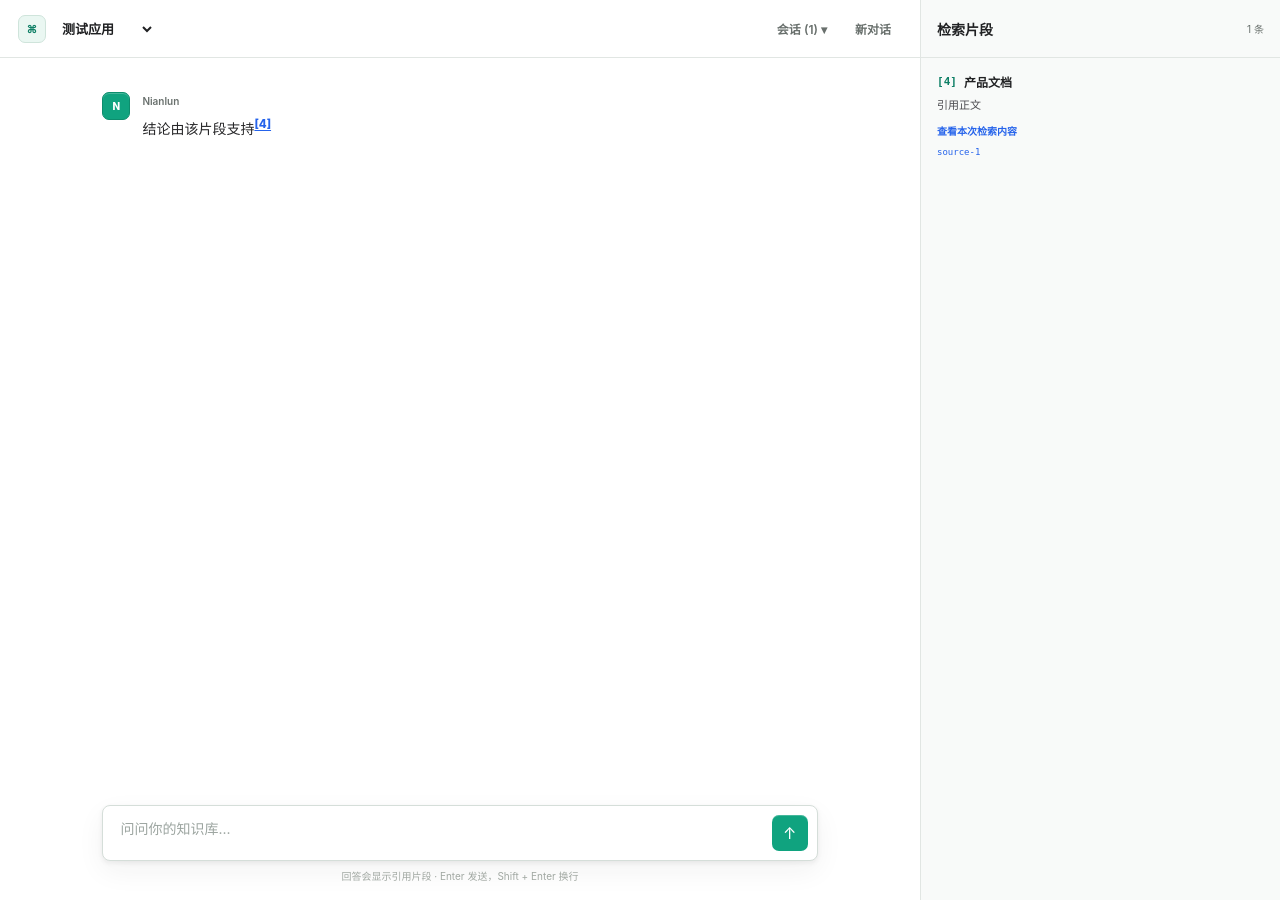
Scenario: ChatView retrieval snippets › links answer citations to the matching expanded source
What coordinates should you click on to do the following:
click the link with class "citation-link"
I would click on:
 (263, 124)
Its box is [254, 117, 271, 131].
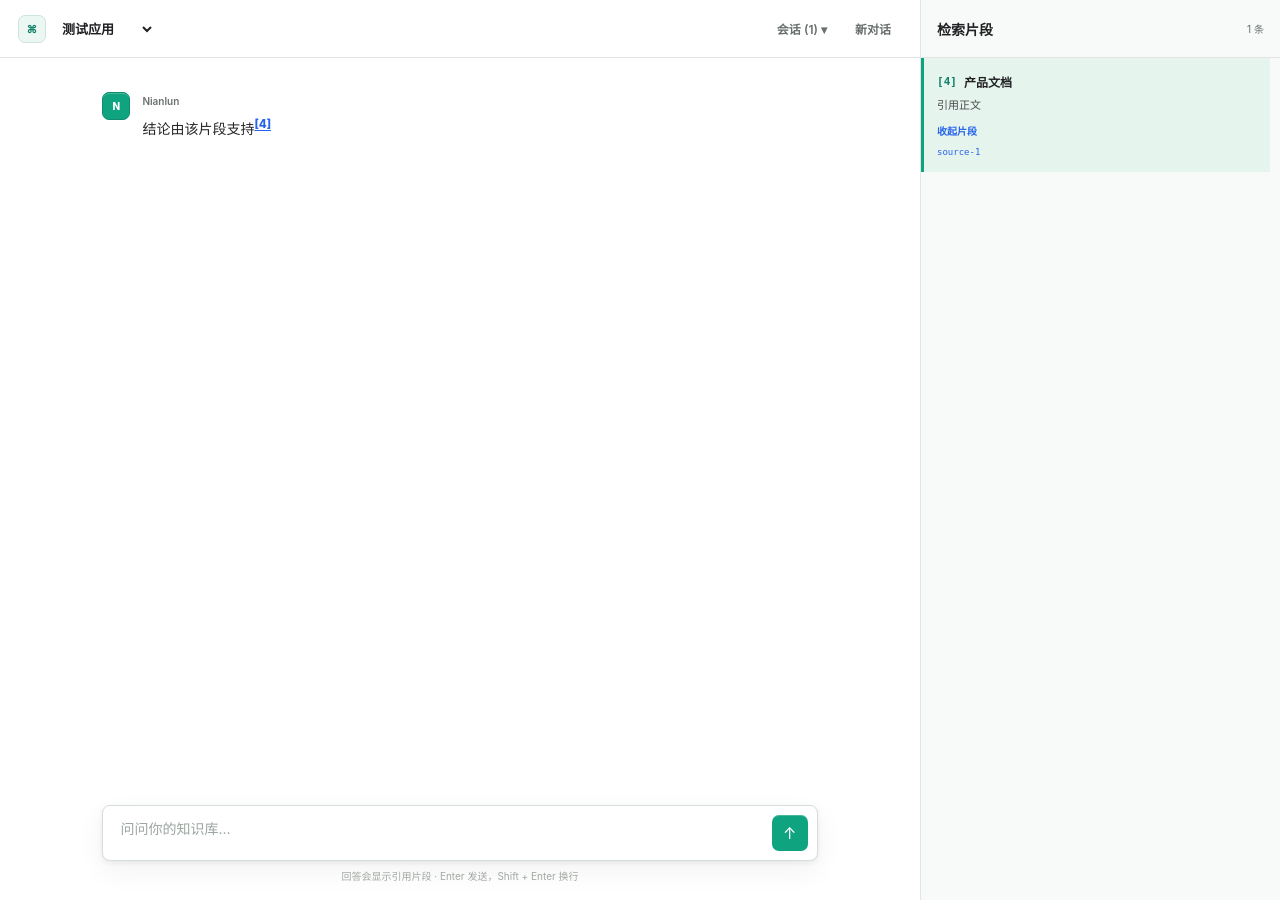
Expected: the button with class "source-toggle" reads "收起片段", [937, 123, 977, 138]
